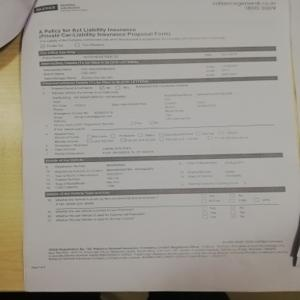table: (44, 152, 285, 186), (39, 56, 278, 81)
text: (37, 27, 225, 48)
